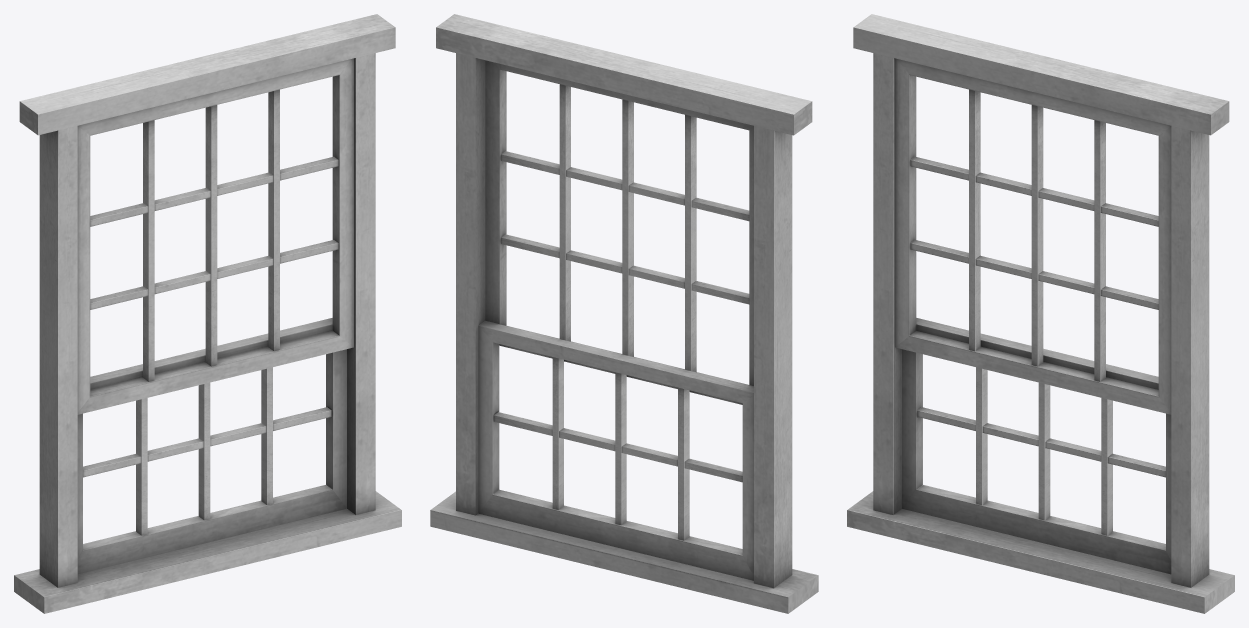
File: Window_02_open.FBX
The picture shows the model from 3 angles, left to right: view 1: azimuth 30°, elevation 25°; view 2: azimuth 150°, elevation 25°; view 3: azimuth 330°, elevation 25°; orthographic projection.
Visible parts, largest first — view 1: WindowFrame_02; view 2: WindowFrame_02; view 3: WindowFrame_02.
Boxes of the visible parts, box(x1,y1,x2,y2) form: WindowFrame_02: box(14, 14, 401, 613); WindowFrame_02: box(430, 14, 818, 613); WindowFrame_02: box(847, 14, 1234, 613).
Bounding box in the file's own units: 90 × 119 × 13.18.
